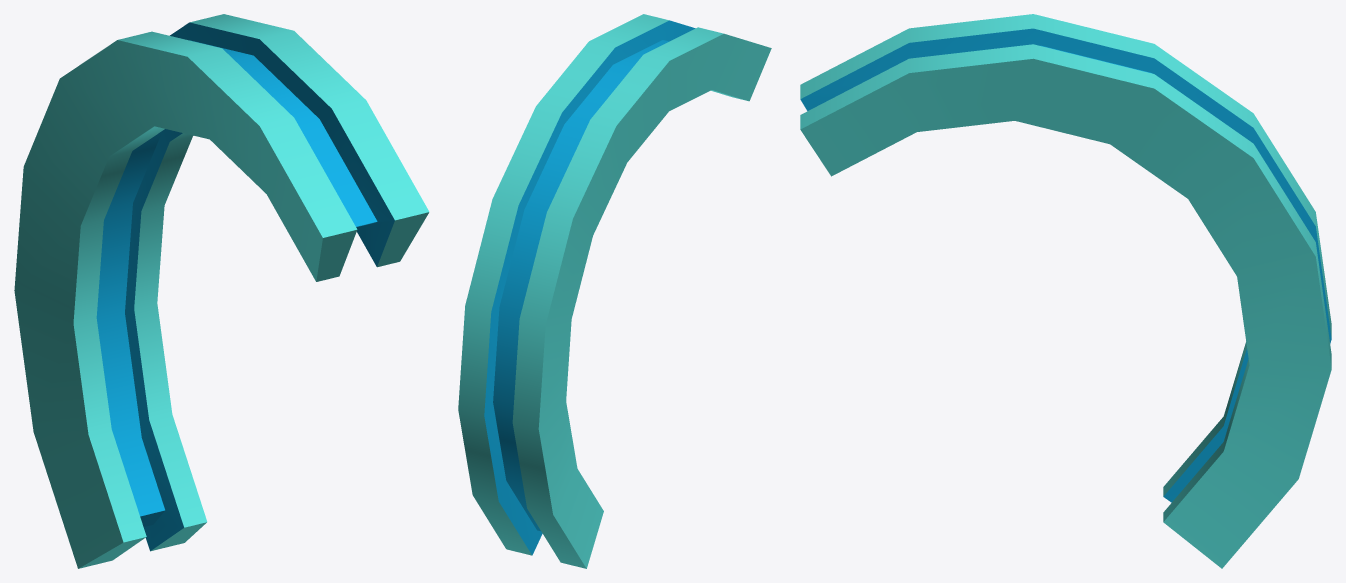
The model's file is AlienRuinsCircle.gltf.
3 views of the same model, side by side, from view 1: azimuth 30°, elevation 25°; view 2: azimuth 150°, elevation 25°; view 3: azimuth 270°, elevation 25° (orthographic). The views are drawn at different scales.
Visible parts, largest first — view 1: AlienRuinCircle; view 2: AlienRuinCircle; view 3: AlienRuinCircle.
Boxes of the visible parts, box(x1,y1,x2,y2) form: AlienRuinCircle: box(14, 14, 429, 568); AlienRuinCircle: box(458, 14, 771, 568); AlienRuinCircle: box(800, 14, 1331, 568).
Bounding box in the file's own units: 0.3298 × 1.75 × 1.65.
